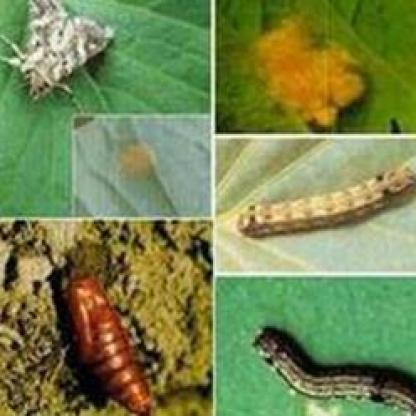armyworm: (252, 318, 416, 415), (232, 155, 416, 238), (66, 270, 168, 416), (0, 0, 113, 102)
